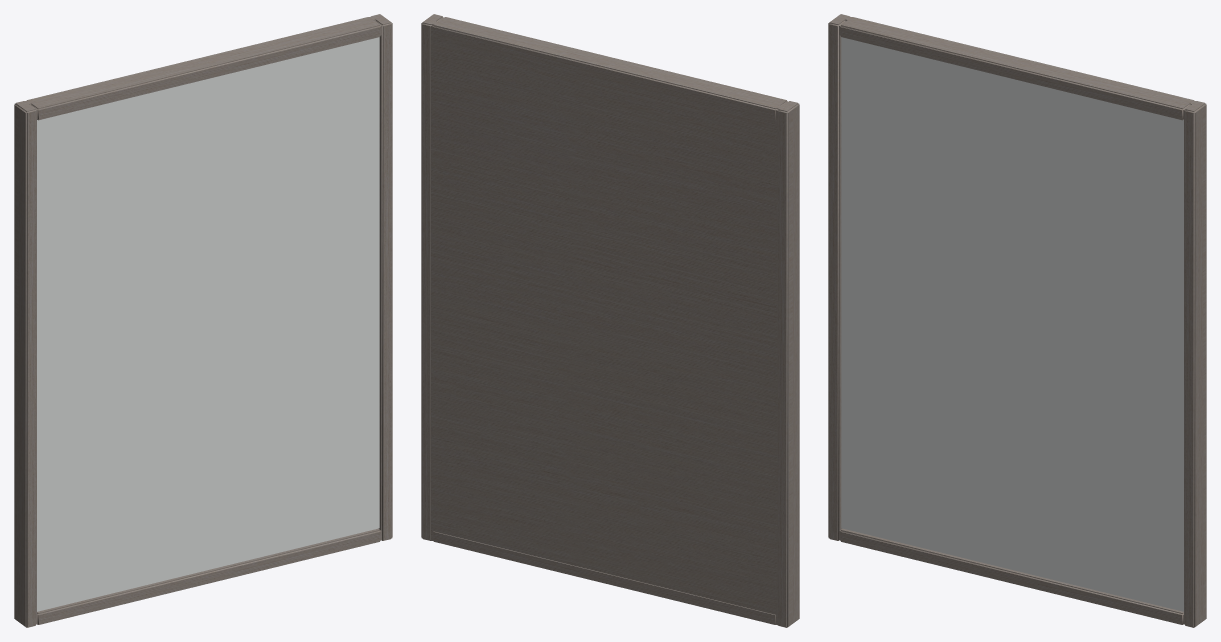
Rendered from modern.mirror.gltf.
3 views of the same model, side by side, from view 1: azimuth 30°, elevation 25°; view 2: azimuth 150°, elevation 25°; view 3: azimuth 330°, elevation 25° (orthographic).
Visible parts, largest first — view 1: modern.mirror.backing; view 2: modern.mirror.backing; view 3: modern.mirror.backing.
Part boxes in pixels (x1=…): modern.mirror.backing: x1=14, y1=14, x2=392, y2=627; modern.mirror.backing: x1=421, y1=14, x2=799, y2=627; modern.mirror.backing: x1=828, y1=14, x2=1206, y2=627.
Size of the model in its own units: 0.58 by 0.78 by 0.035.
Materials: 3 (1 with a texture image).
